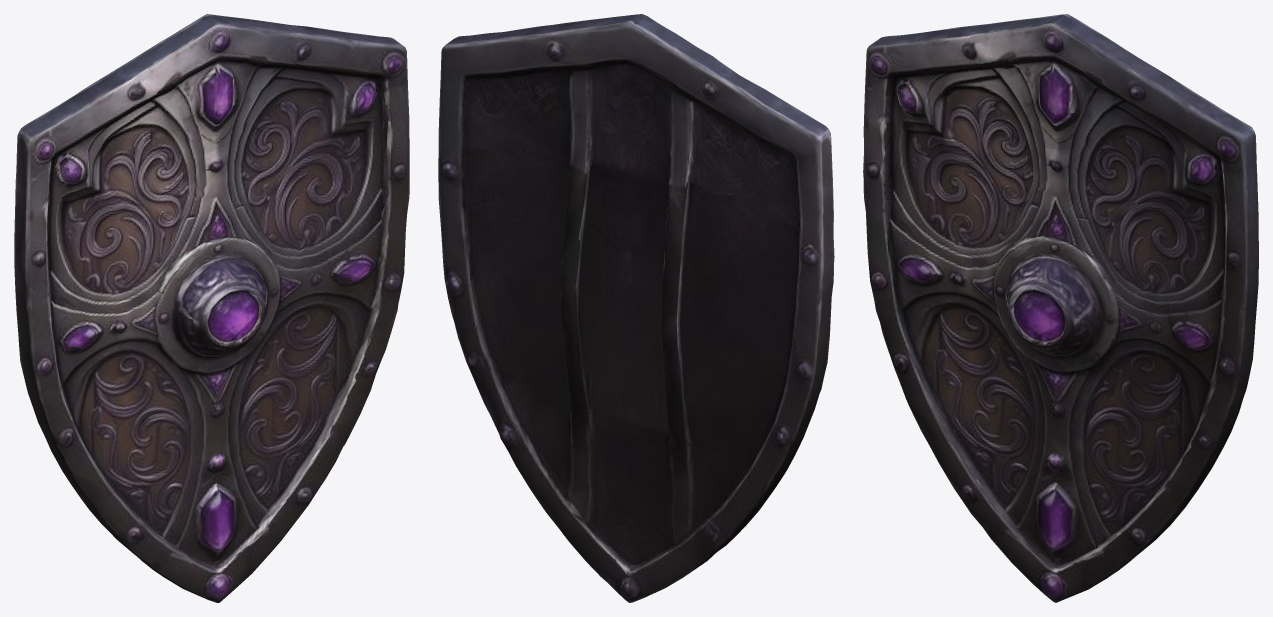
File: escudo-ametista-m68.glb
3 renders of one model, left to right at view 1: azimuth 30°, elevation 25°; view 2: azimuth 150°, elevation 25°; view 3: azimuth 330°, elevation 25°, orthographic.
Visible parts, largest first — view 1: escudo-ametista; view 2: escudo-ametista; view 3: escudo-ametista.
Part boxes in pixels (x1,y1,x2,y2): escudo-ametista: [14, 14, 409, 602]; escudo-ametista: [438, 14, 834, 602]; escudo-ametista: [863, 14, 1258, 602].
Bounding box in the file's own units: 0.6934 × 0.9996 × 0.1289.
1 material, 1 textured.
